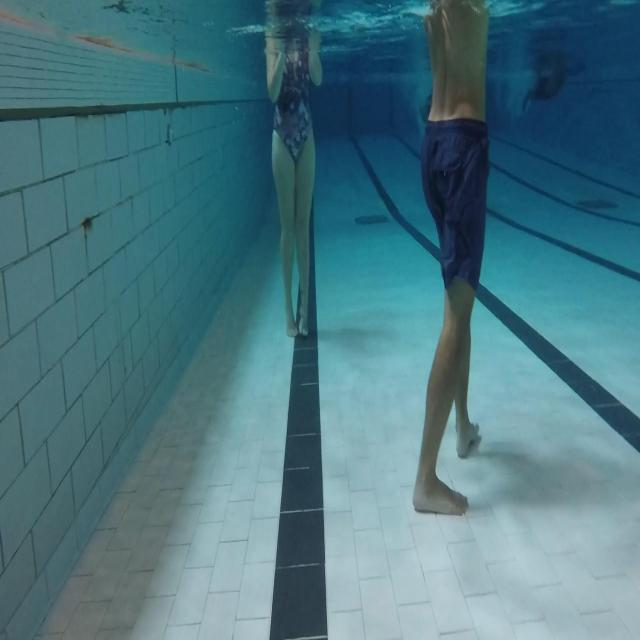human: (412, 0, 491, 516), (263, 12, 323, 338)
